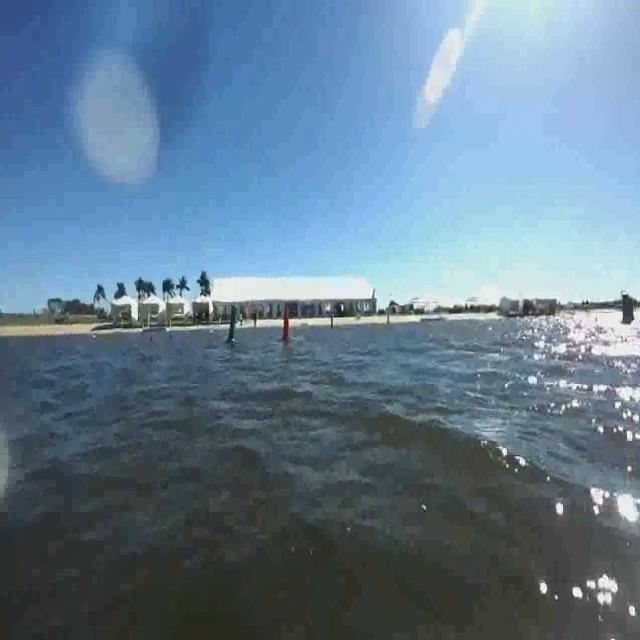green-column-buoy: (224, 304, 240, 347)
red-column-buoy: (281, 306, 293, 342)
